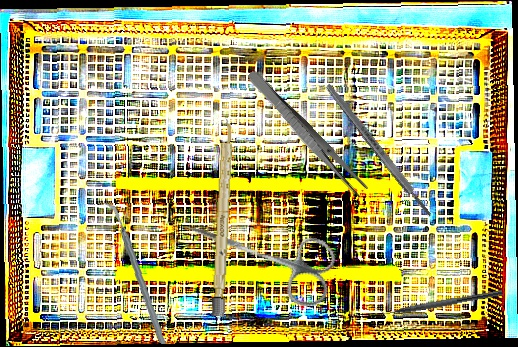Chopper: (93, 203, 177, 344), (373, 280, 504, 321)
Dressing Forceps: (243, 68, 370, 199)
Iris Scissors: (172, 196, 343, 313)
Scalpel Handle: (323, 81, 435, 220), (211, 118, 235, 317)
